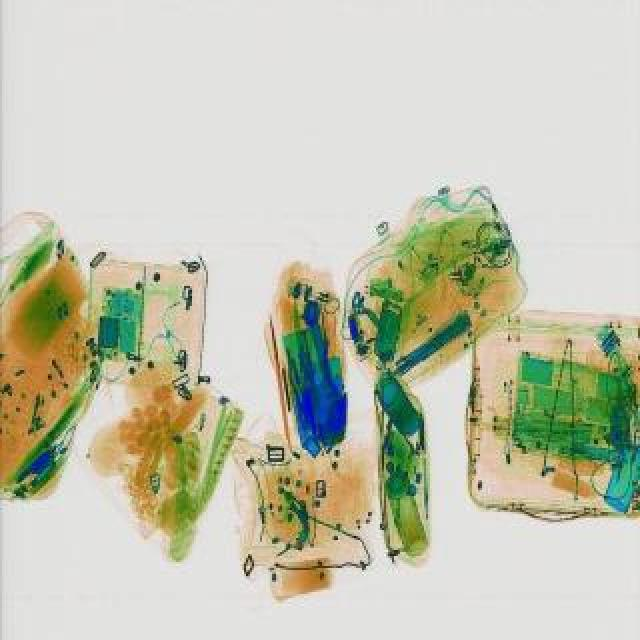wrench: (282, 346, 316, 430)
